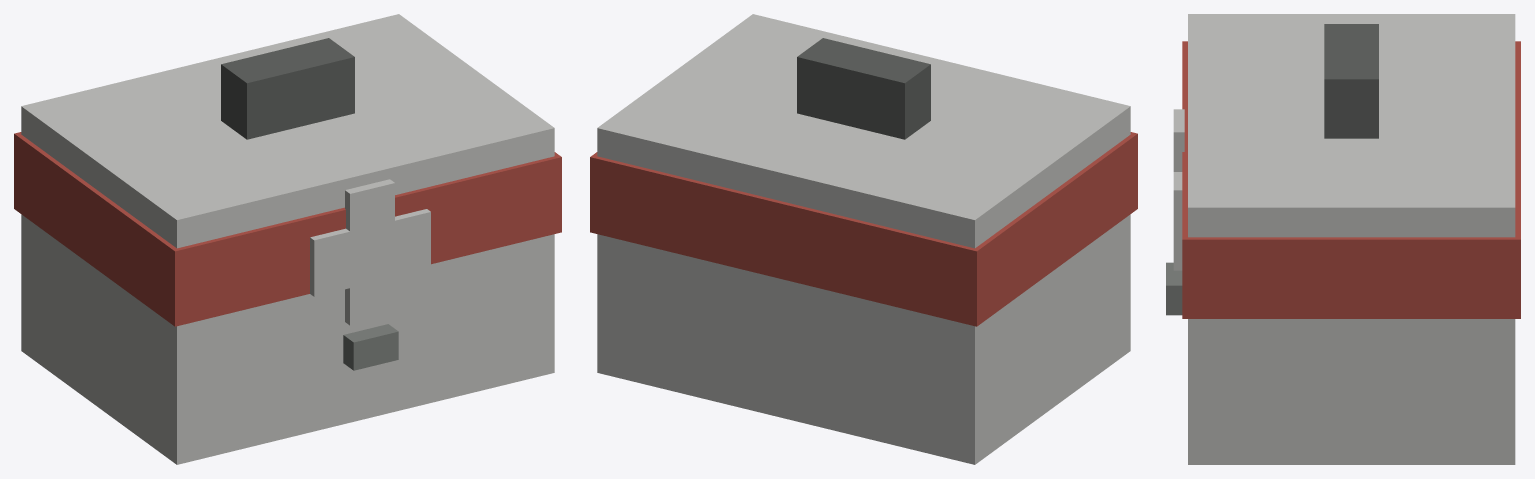
File: g_medkit.glb
The picture shows the model from 3 angles, left to right: view 1: azimuth 30°, elevation 25°; view 2: azimuth 150°, elevation 25°; view 3: azimuth 270°, elevation 25°; orthographic projection. The views are drawn at different scales.
Visible parts, largest first — view 1: body; view 2: body; view 3: body.
Part boxes in pixels (x1,y1,x2,y2): body: [14, 14, 561, 464]; body: [590, 14, 1137, 464]; body: [1166, 14, 1520, 464].
Bounding box in the file's own units: 0.43 × 0.32 × 0.325.
